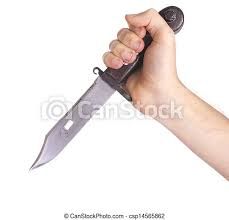weapon-unusual: (19, 5, 191, 173)
